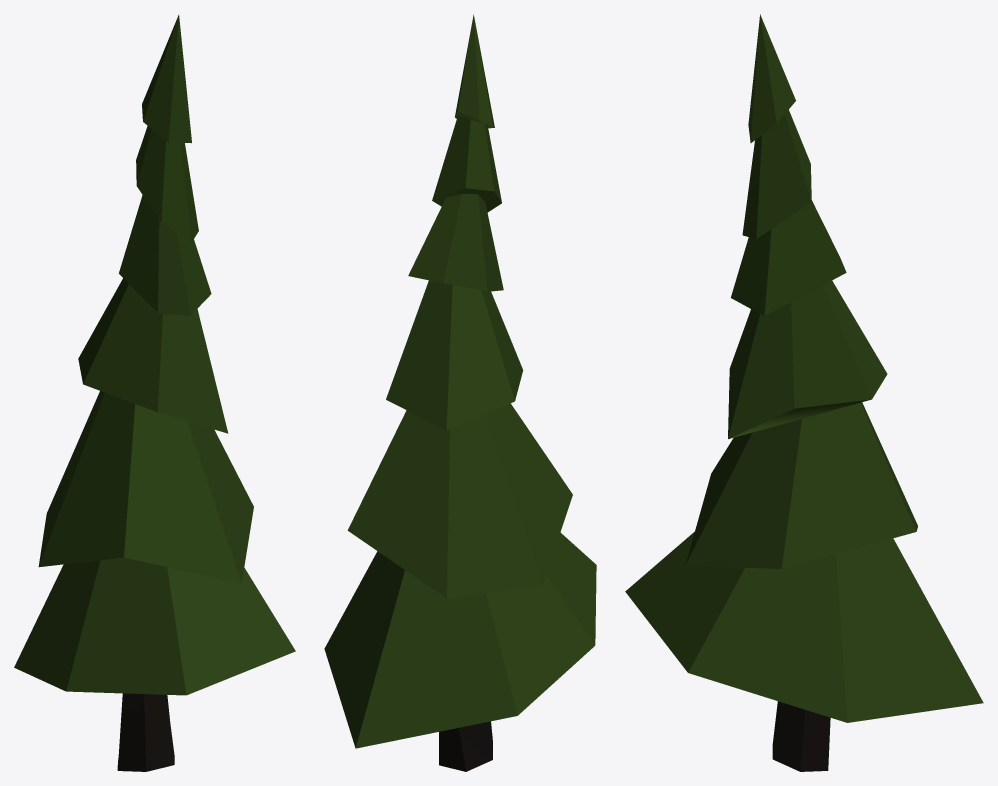
Rendered from Pine_03.FBX.
3 views of the same model, side by side, from view 1: azimuth 30°, elevation 25°; view 2: azimuth 150°, elevation 25°; view 3: azimuth 270°, elevation 25° (orthographic). The views are drawn at different scales.
Visible parts, largest first — view 1: Pine_03; view 2: Pine_03; view 3: Pine_03.
Boxes of the visible parts, left/top/right/bottom form: Pine_03: left=14, top=14, right=295, bottom=771; Pine_03: left=324, top=14, right=596, bottom=771; Pine_03: left=625, top=14, right=983, bottom=771.
Size of the model in its own units: 0.1606 by 0.504 by 0.2167.
